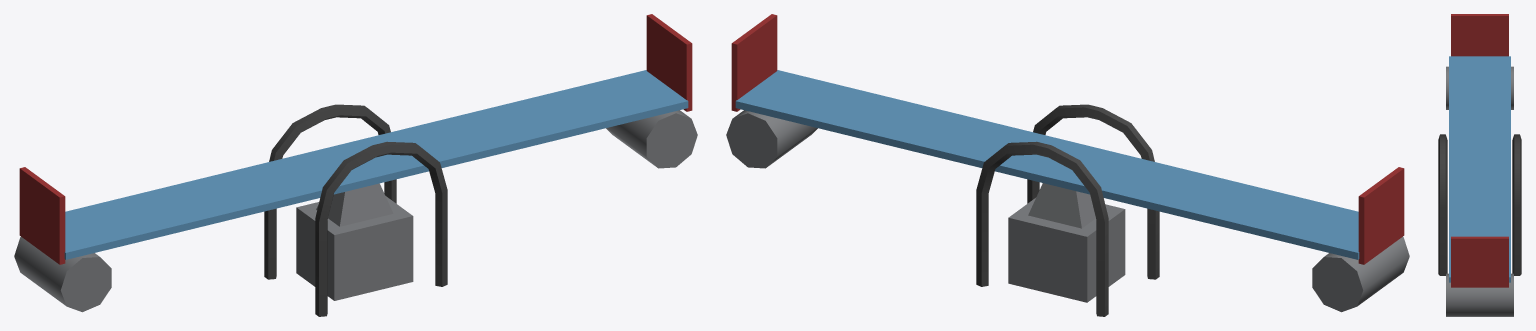
The model's file is SM_playground_object_01.fbx.
3 views of the same model, side by side, from view 1: azimuth 30°, elevation 25°; view 2: azimuth 150°, elevation 25°; view 3: azimuth 270°, elevation 25° (orthographic). The views are drawn at different scales.
Parts seen in each view (by area): view 1: Box5741; view 2: Box5741; view 3: Box5741.
Part boxes in pixels (x1=…): Box5741: x1=14, y1=14, x2=697, y2=316; Box5741: x1=726, y1=14, x2=1409, y2=316; Box5741: x1=1438, y1=14, x2=1521, y2=316.
Bounding box in the file's own units: 146 × 38.34 × 22.73.
